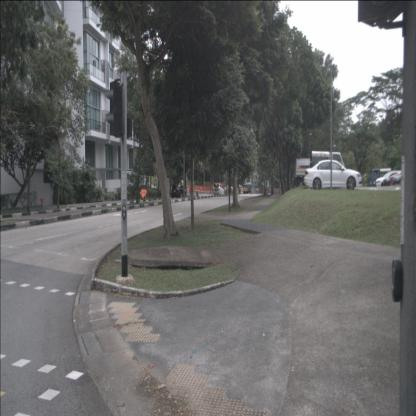movable_object-barrier: (194, 185, 201, 193), (208, 186, 214, 194), (185, 185, 191, 191), (204, 187, 209, 194), (200, 186, 205, 192)
vehicle-car: (304, 159, 362, 191), (376, 170, 405, 188), (393, 168, 416, 187), (172, 184, 188, 199), (213, 183, 224, 196)
vehicle-truck: (295, 150, 345, 188), (368, 168, 396, 187), (243, 184, 251, 194)
